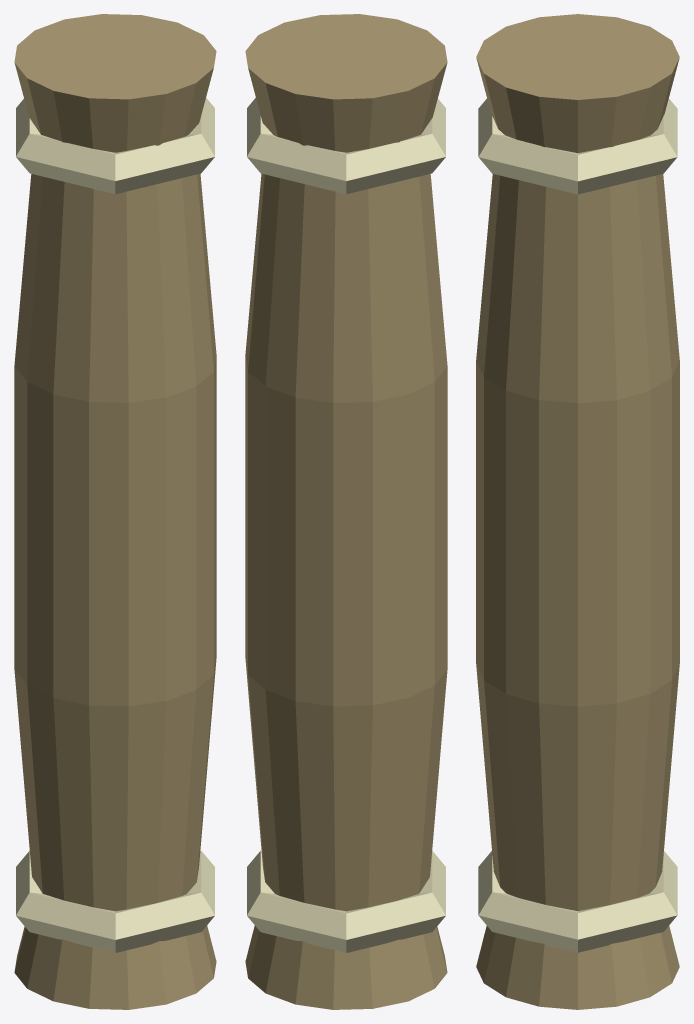
File: Handle2.glb
The picture shows the model from 3 angles, left to right: view 1: azimuth 30°, elevation 25°; view 2: azimuth 150°, elevation 25°; view 3: azimuth 270°, elevation 25°; orthographic projection.
Parts seen in each view (by area): view 1: Handle 2; view 2: Handle 2; view 3: Handle 2.
Part boxes in pixels (bbox=[...]): Handle 2: bbox=[14, 14, 216, 1009]; Handle 2: bbox=[245, 14, 447, 1009]; Handle 2: bbox=[476, 14, 679, 1009].
Size of the model in its own units: 0.2748 by 1.2 by 0.2435.
